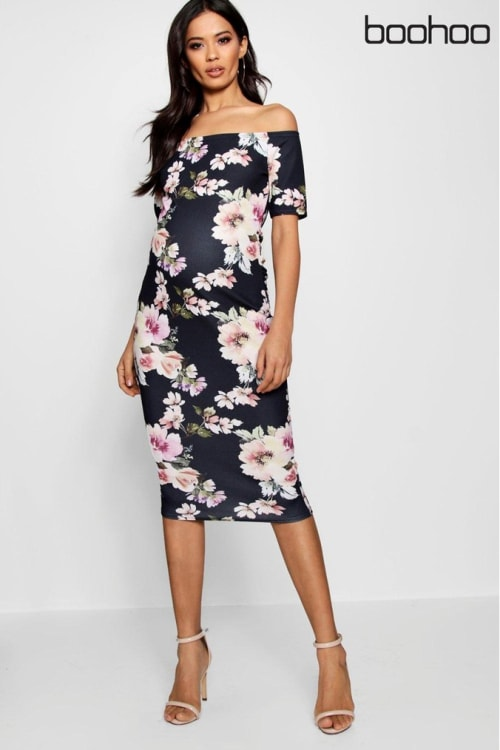C_dress: (120, 125, 323, 538)
